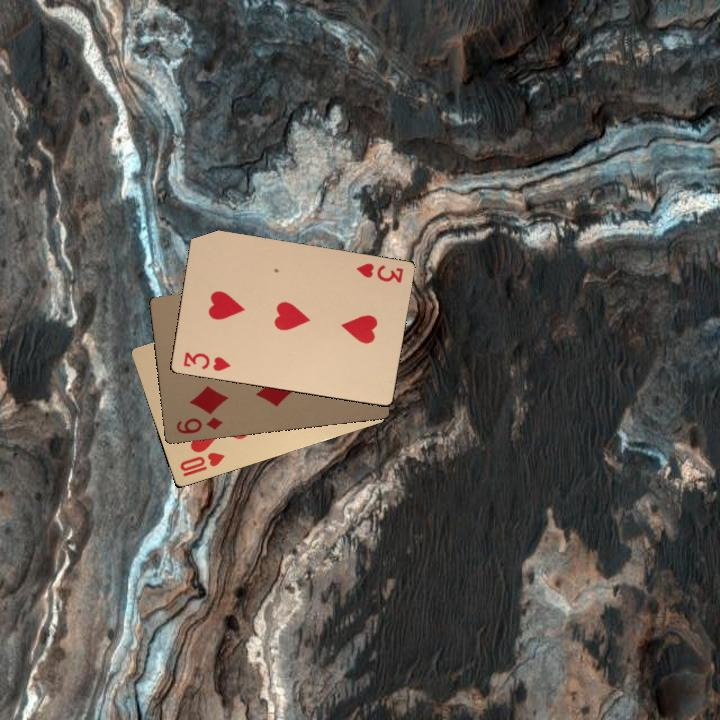10h: (176, 448, 227, 479)
3h: (179, 348, 233, 374), (352, 259, 406, 285)
6d: (172, 413, 225, 436)
